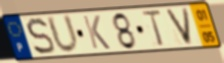8: (111, 10, 138, 52)
K: (81, 15, 113, 51)
S: (25, 16, 57, 56)
T: (140, 9, 166, 49)
U: (44, 13, 81, 56)
V: (163, 7, 195, 47)
